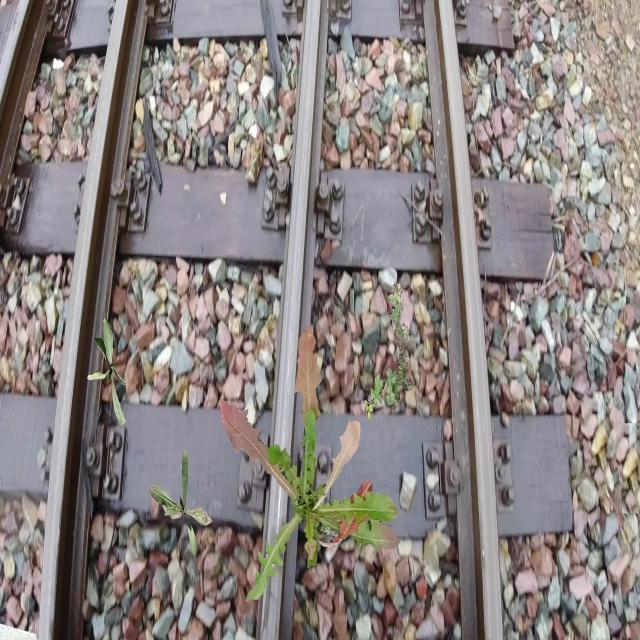Plant: (220, 324, 400, 602), (149, 451, 213, 563), (364, 282, 412, 420), (87, 317, 127, 427)
